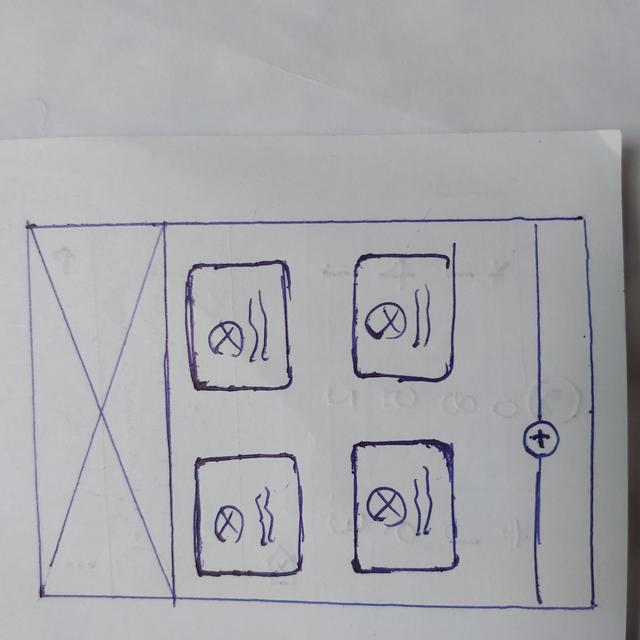CardView: (349, 438, 461, 576), (191, 451, 305, 581), (184, 260, 294, 392), (350, 252, 456, 383)
Fab: (523, 421, 561, 458)
Image: (27, 224, 172, 596)
MainLayout: (29, 224, 596, 611)
RoundedImage: (366, 301, 406, 340), (367, 487, 406, 527), (208, 321, 244, 358), (216, 505, 243, 543)
TextView: (246, 292, 270, 363), (413, 468, 433, 538), (414, 285, 432, 346), (257, 490, 273, 542)
